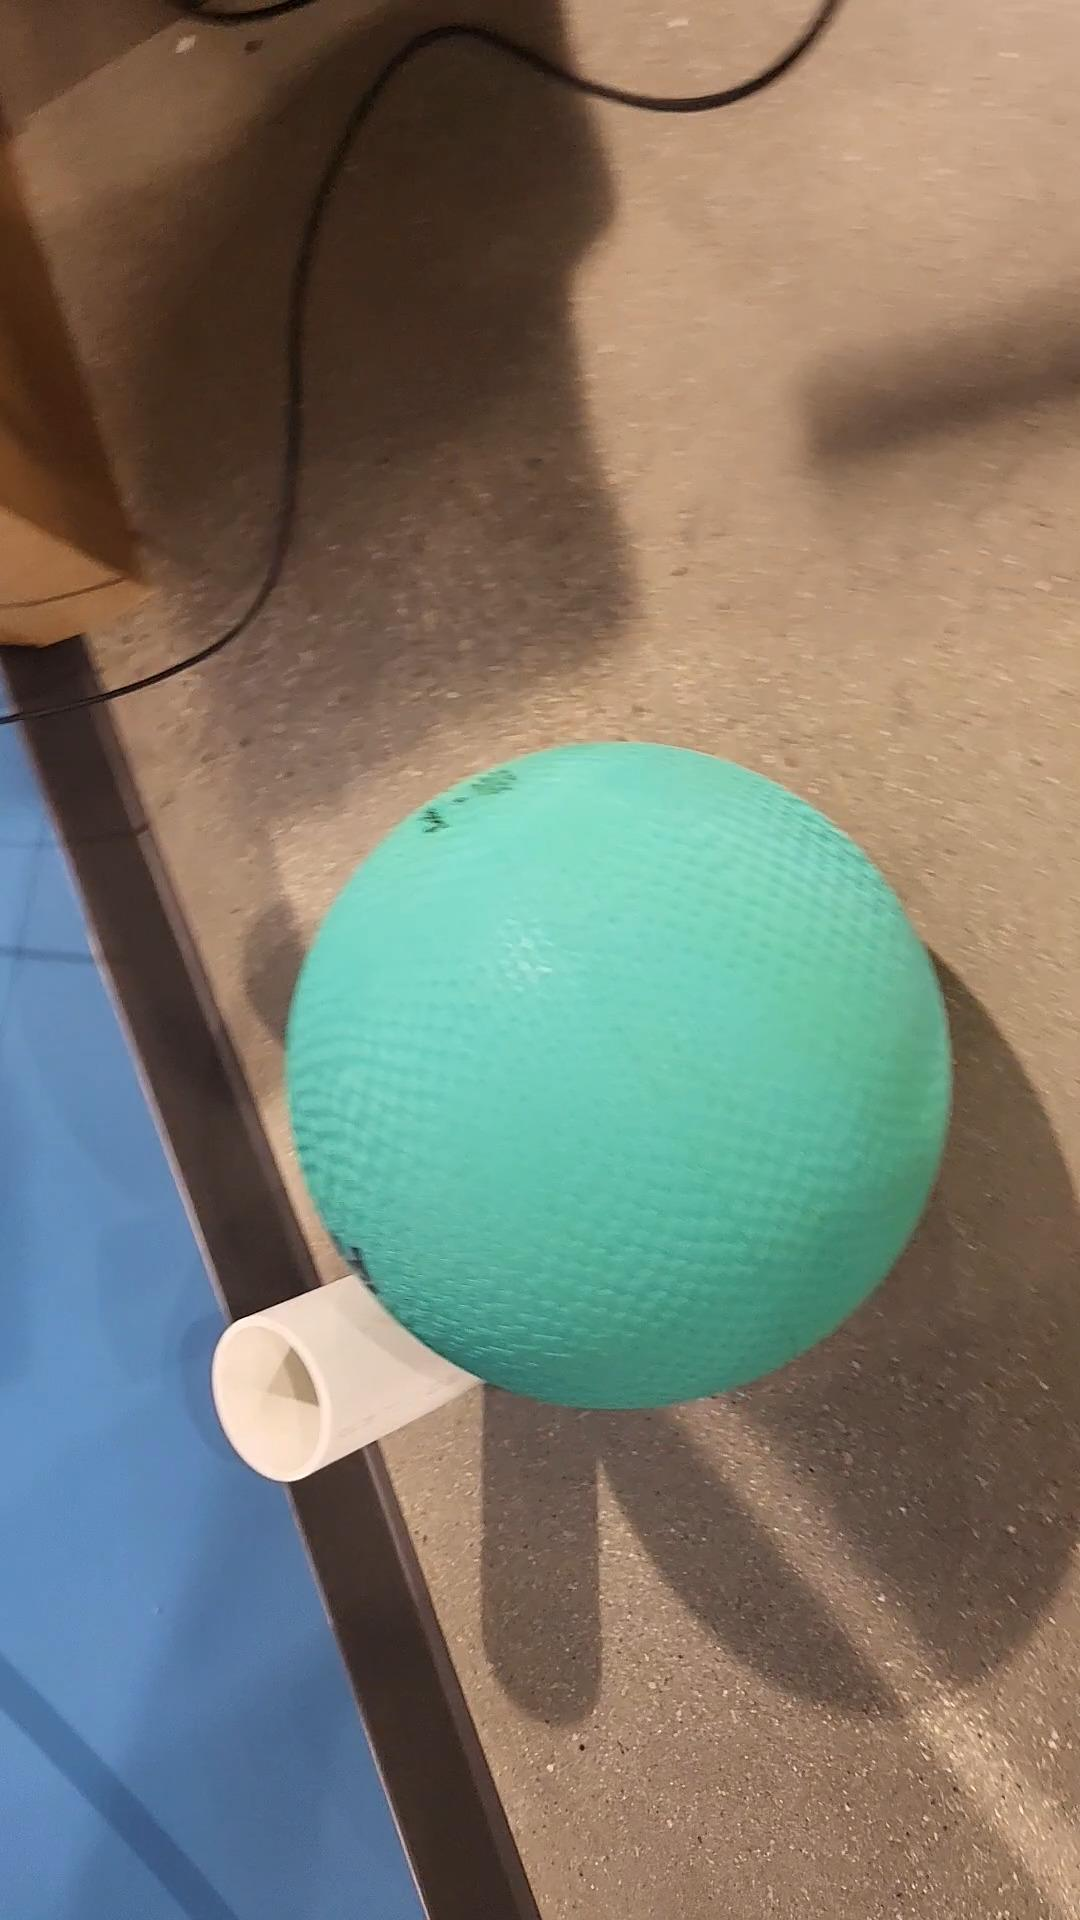algae: (295, 740, 948, 1410)
coral: (210, 1267, 491, 1477)
